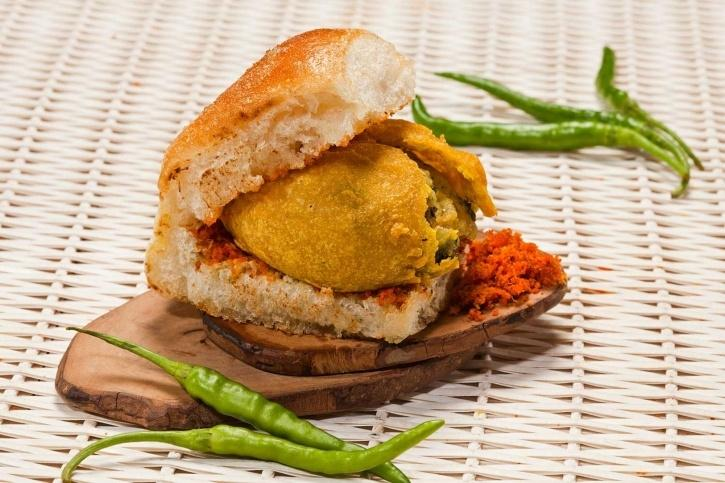vada pav: (230, 62, 415, 324)
